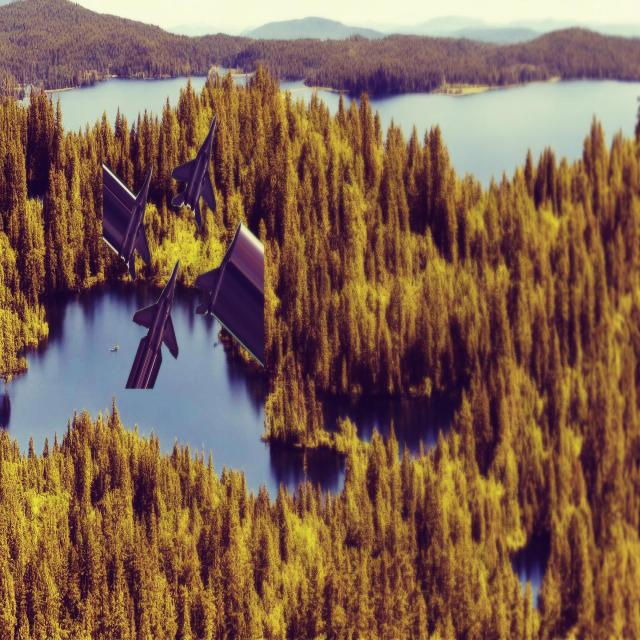airplane: (194, 219, 265, 369), (124, 258, 180, 389), (101, 162, 153, 281), (170, 113, 218, 226)
